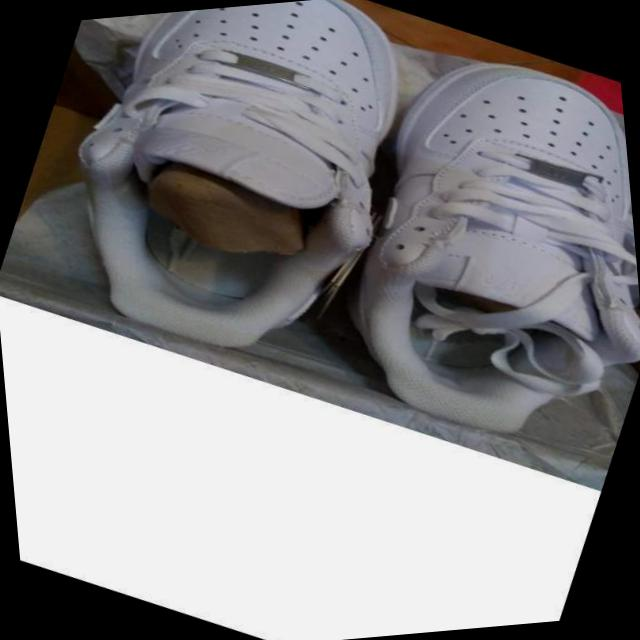nike_original_airforce: (0, 0, 476, 421), (269, 3, 640, 507)
